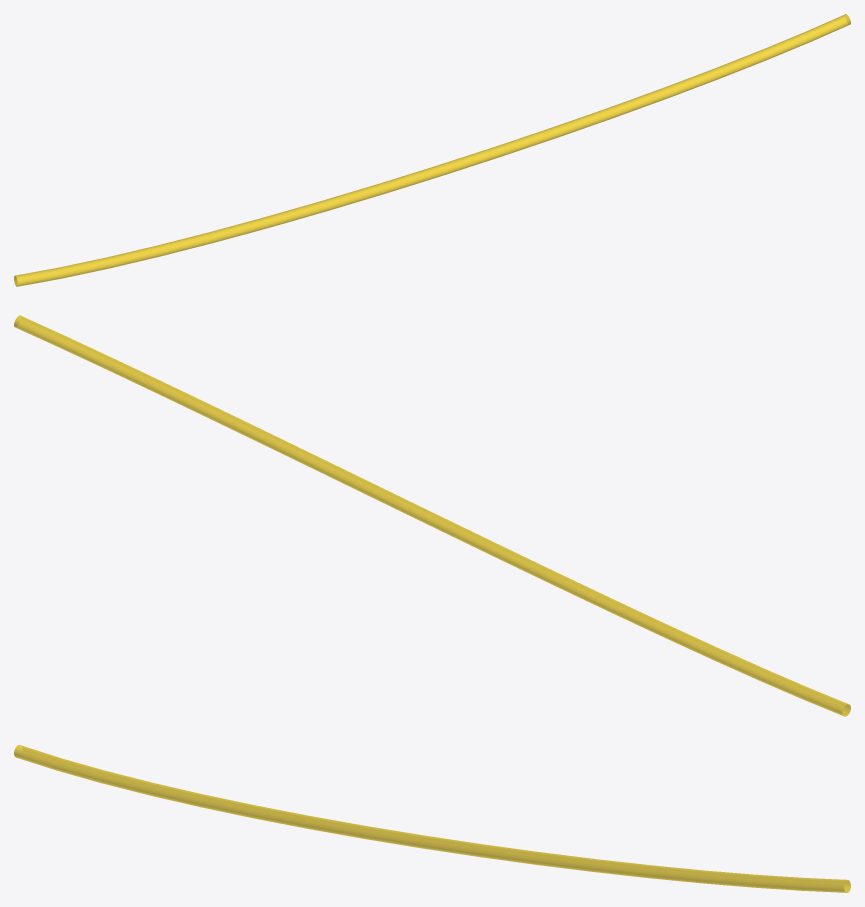
Rendered from Event_100608114_track_112.fbx.
3 renders of one model, top to bottom at view 1: azimuth 30°, elevation 25°; view 2: azimuth 150°, elevation 25°; view 3: azimuth 330°, elevation 25°, orthographic. The views are drawn at different scales.
Parts seen in each view (by area): view 1: Model; view 2: Model; view 3: Model.
Boxes of the visible parts, box(x1,y1,x2,y2) form: Model: box(14, 14, 850, 286); Model: box(14, 315, 850, 716); Model: box(14, 745, 850, 892).
Size of the model in its own units: 3.13 by 0.465 by 0.4111.
